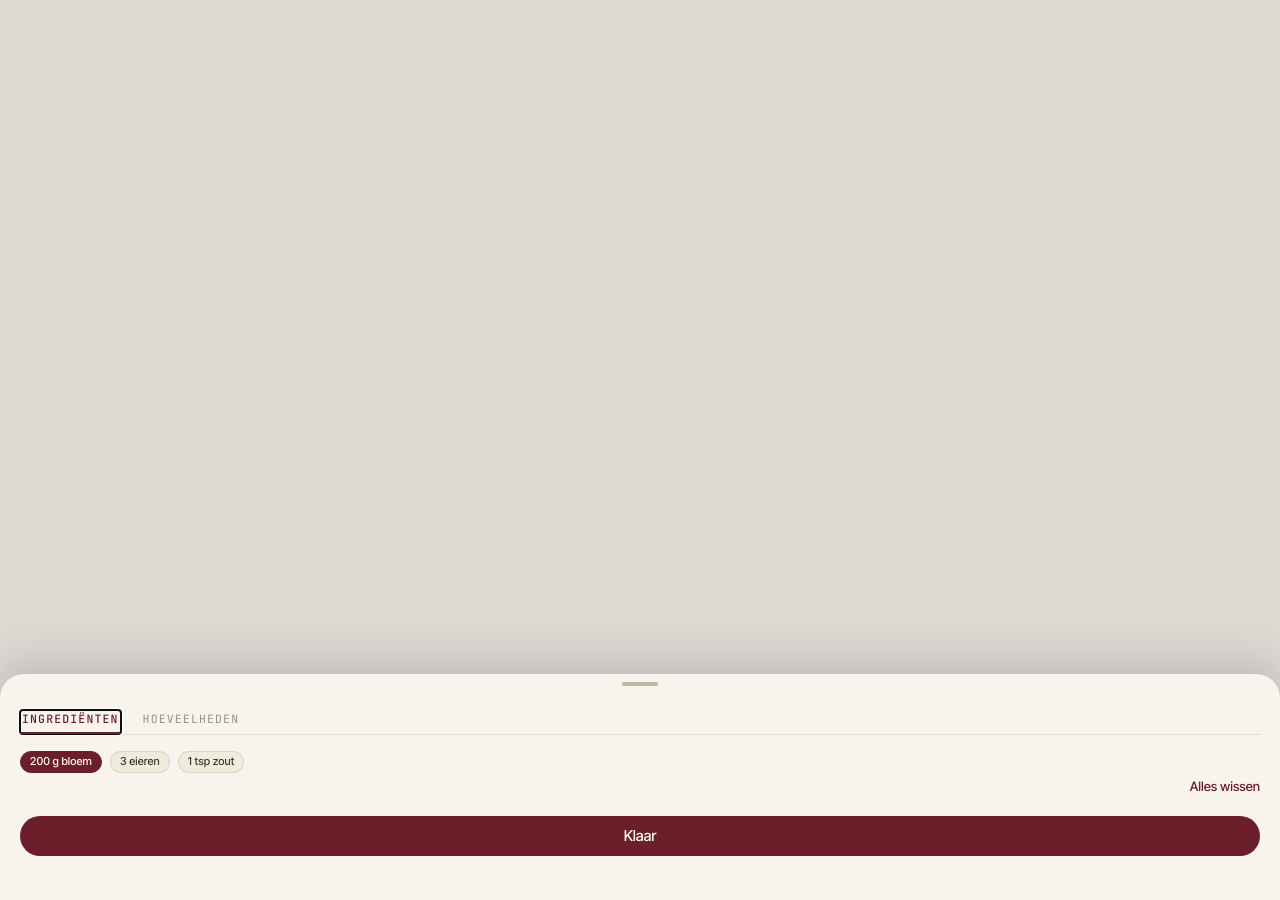
it: IngredientPickerSheet › uses remainingAmounts as the placeholder when amounts entry is absent
Click the button "Hoeveelheden" at coordinates (191, 722), box [141,710,241,734]
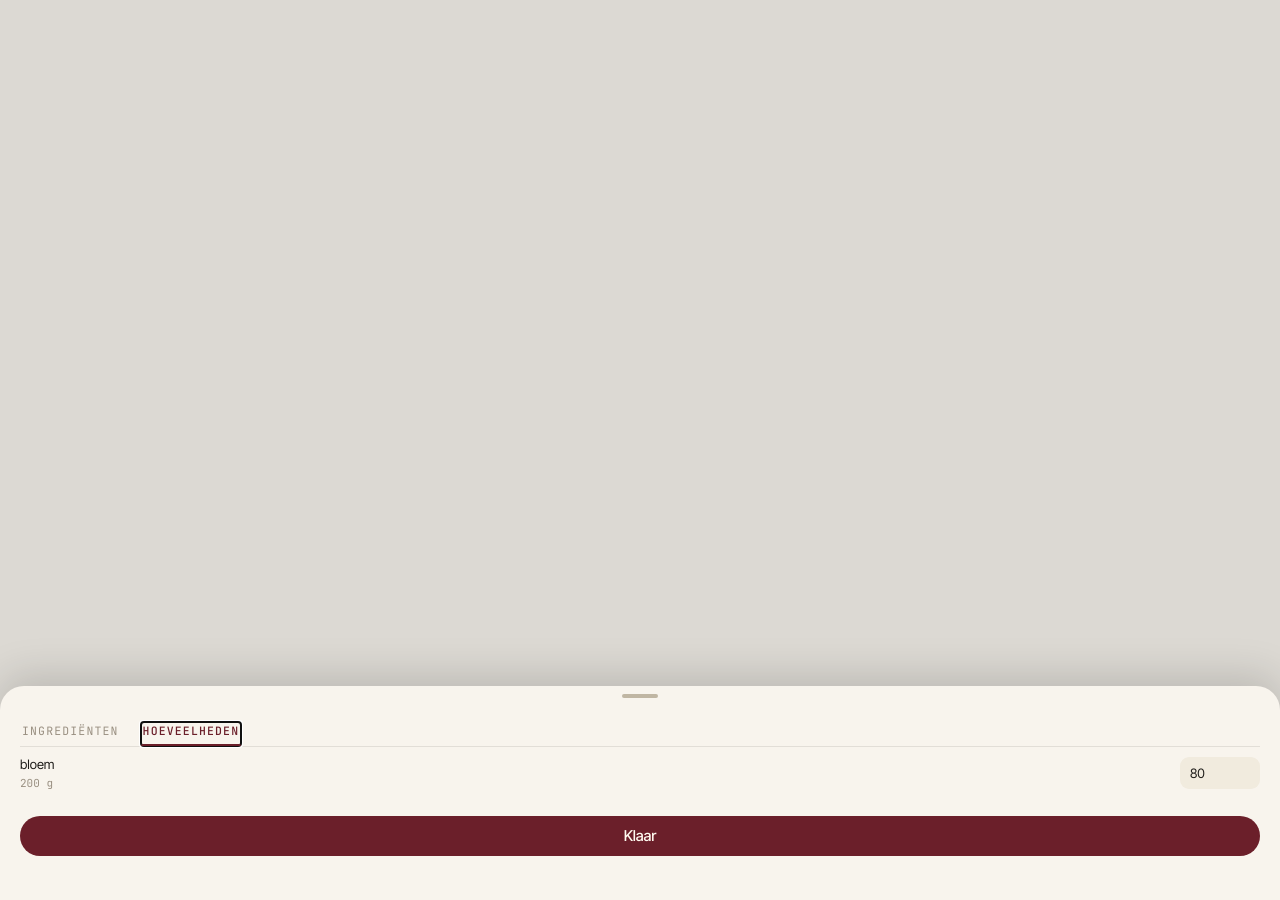
expect the field with placeholder "80" is shown: met, box [1180,757,1260,789]
